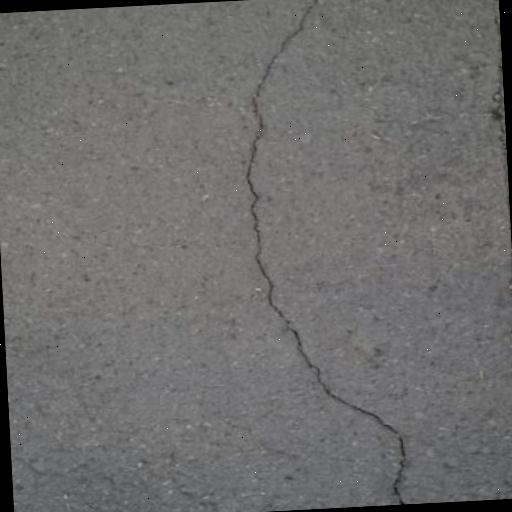spalling: (232, 4, 426, 505)
